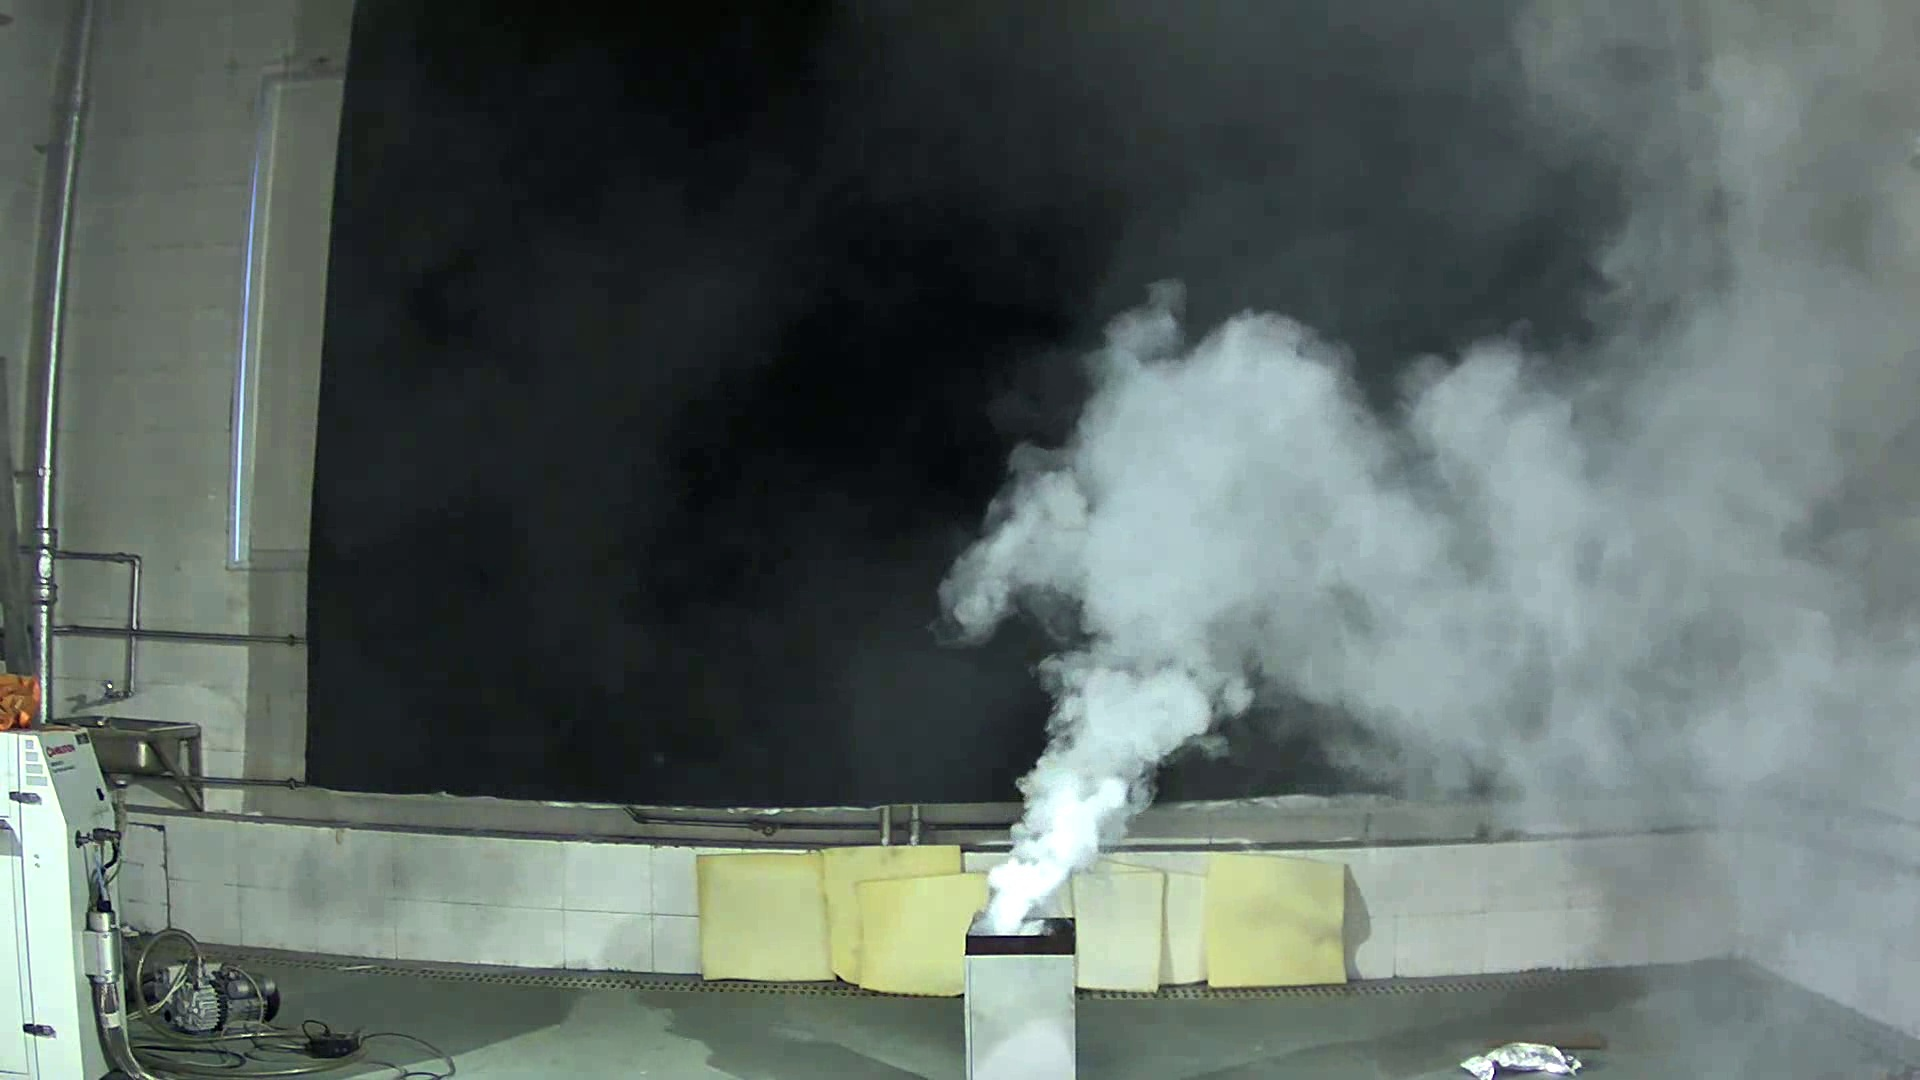smoke: (913, 249, 1832, 936)
